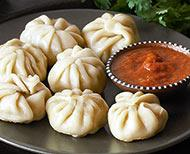momos: (108, 91, 168, 142), (46, 88, 108, 137), (82, 13, 140, 63), (48, 45, 106, 93), (20, 15, 85, 57), (0, 73, 52, 123), (0, 39, 48, 92)
